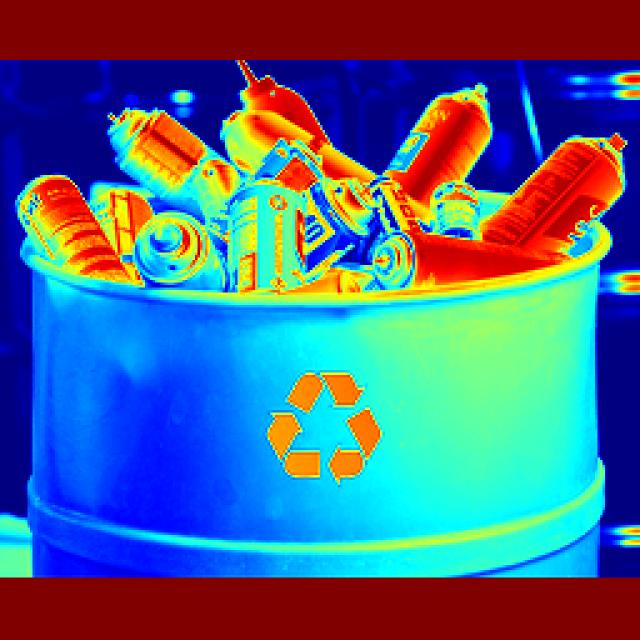Aerosol Cans: (495, 111, 633, 287), (12, 166, 135, 320), (396, 70, 500, 232), (107, 96, 237, 202), (225, 165, 311, 302)
